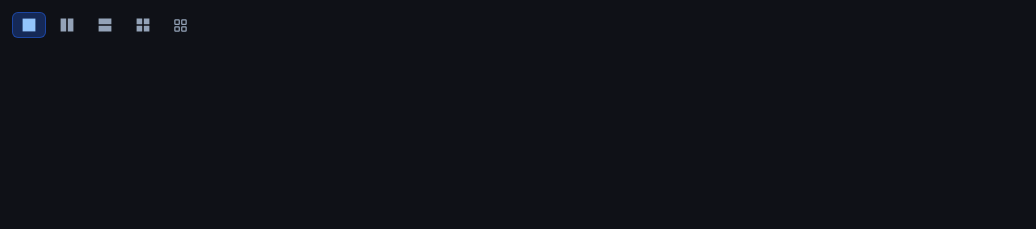
LayoutPicker — custom grid popover › decrements rows when the Rows - button is clicked
Click the button named "Custom grid".
click(180, 25)  # box x1=164 y1=12 x2=197 y2=38
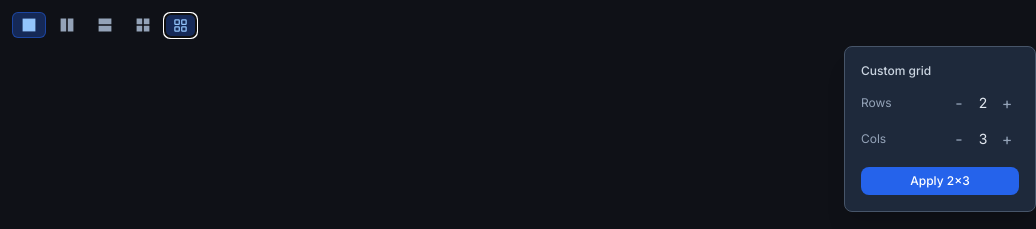
Click the button "-" next to "Rows".
click(959, 103)  # box x1=947 y1=91 x2=971 y2=115
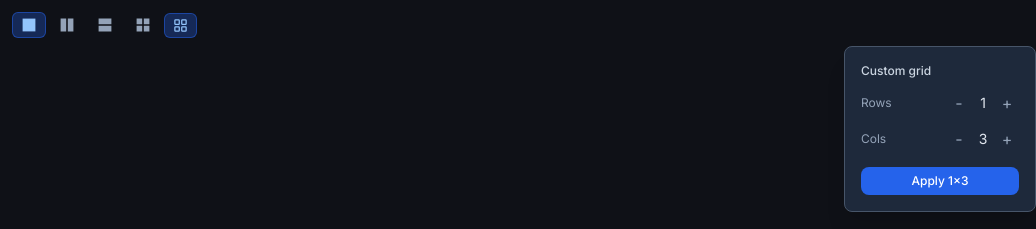
Now the button "Apply 1x3" is shown, box x1=861 y1=167 x2=1019 y2=195
